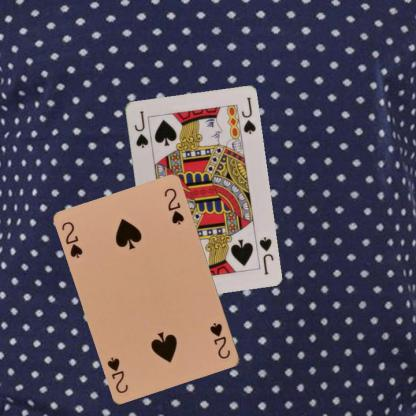2s: (207, 320, 232, 361), (59, 219, 84, 259)
Js: (256, 234, 274, 276), (131, 108, 149, 149)
